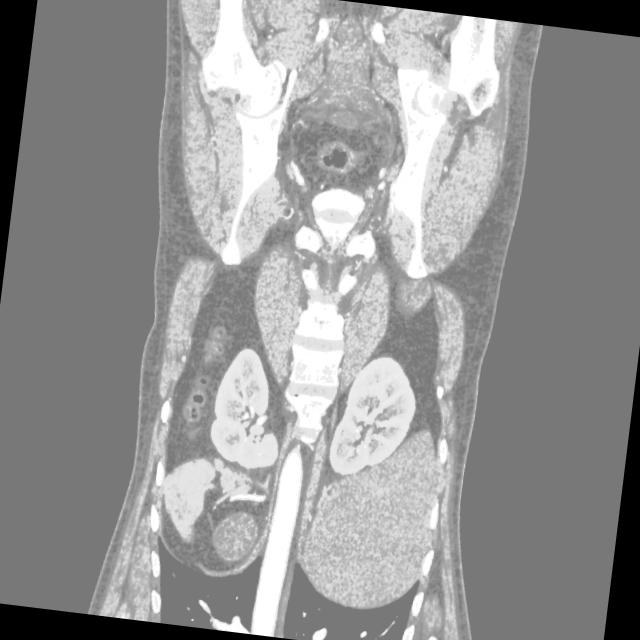NORMAL: (83, 97, 559, 616)
